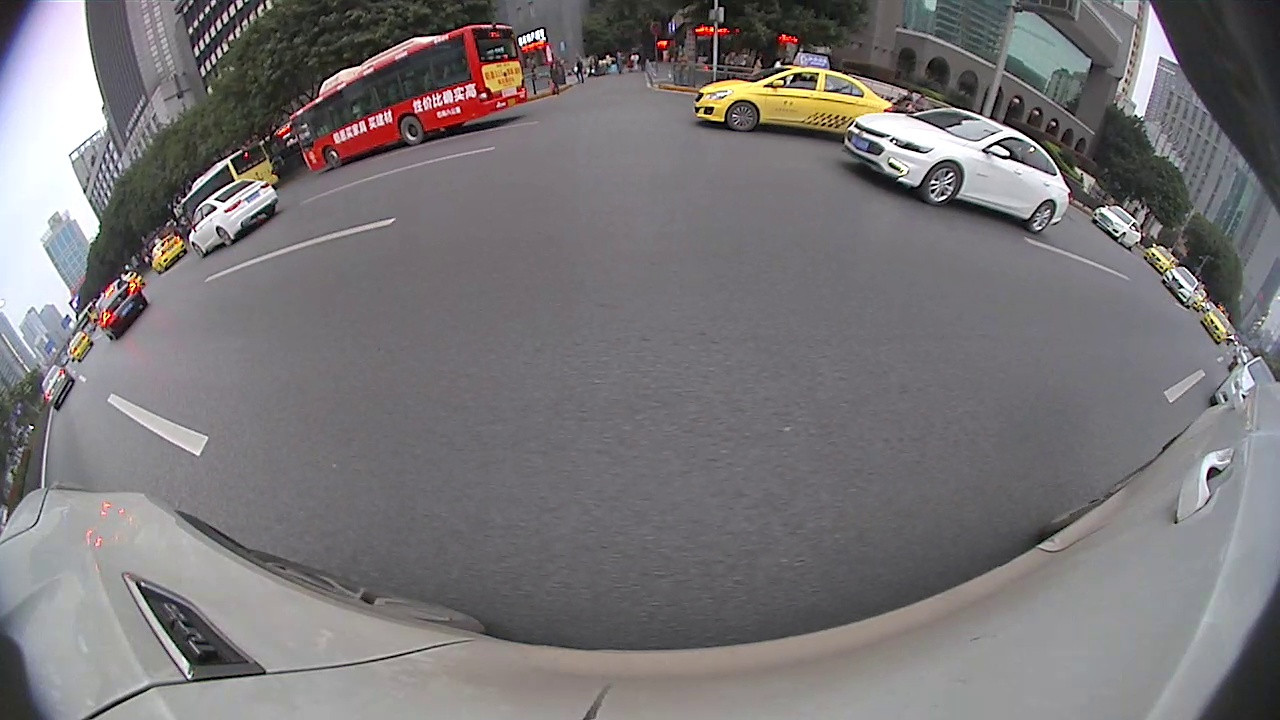bus: (1126, 198, 1279, 395), (879, 140, 1084, 219)
car: (1, 237, 243, 469), (947, 193, 1165, 327), (723, 132, 875, 226), (385, 153, 527, 237), (966, 166, 1124, 235), (591, 148, 657, 200), (875, 166, 917, 226), (677, 158, 725, 188), (551, 158, 590, 190)
front: (143, 303, 228, 403), (955, 217, 982, 249), (721, 168, 737, 203), (514, 184, 525, 207)
rear: (1074, 265, 1110, 312), (762, 174, 782, 217), (473, 193, 490, 224)
